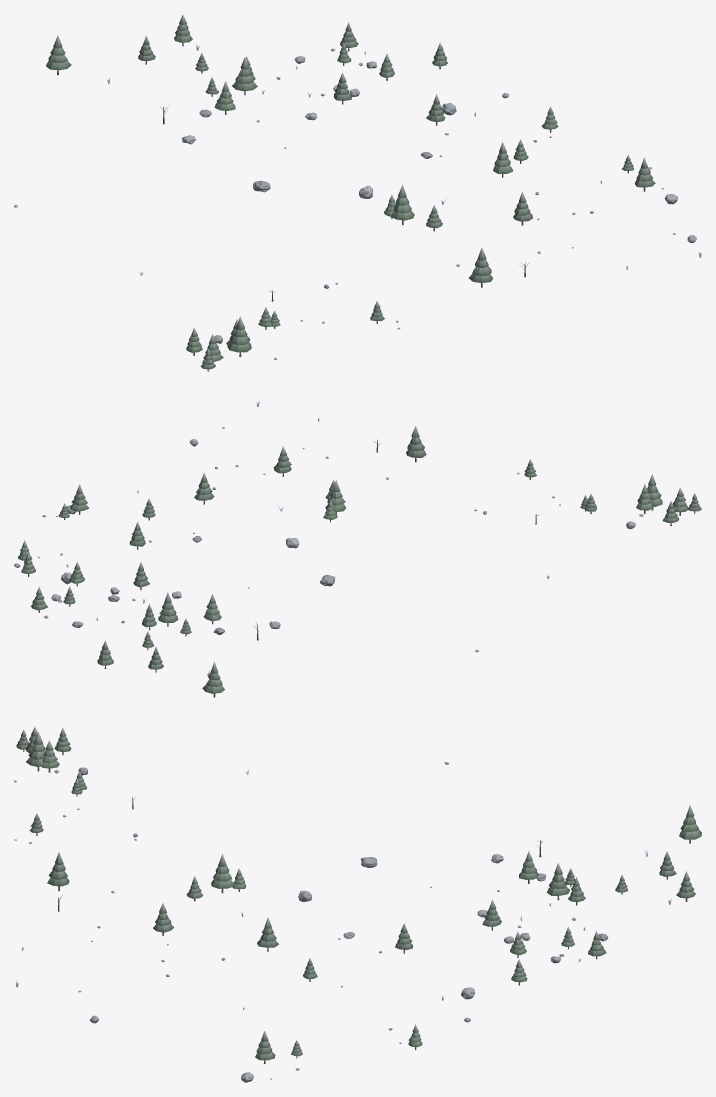
File: frost_land_scatter_c19_12.glb
3 renders of one model, top to bottom at view 1: azimuth 30°, elevation 25°; view 2: azimuth 150°, elevation 25°; view 3: azimuth 270°, elevation 25°, orthographic. The views are drawn at different scales.
Visible parts, largest first — view 1: frost_land_scatter_c19_12; view 2: frost_land_scatter_c19_12; view 3: frost_land_scatter_c19_12.
Part boxes in pixels (x1=…): frost_land_scatter_c19_12: x1=14, y1=15, x2=701, y2=371; frost_land_scatter_c19_12: x1=14, y1=401, x2=701, y2=697; frost_land_scatter_c19_12: x1=14, y1=726, x2=701, y2=1082.
Size of the model in its own units: 249 by 39.12 by 258.
